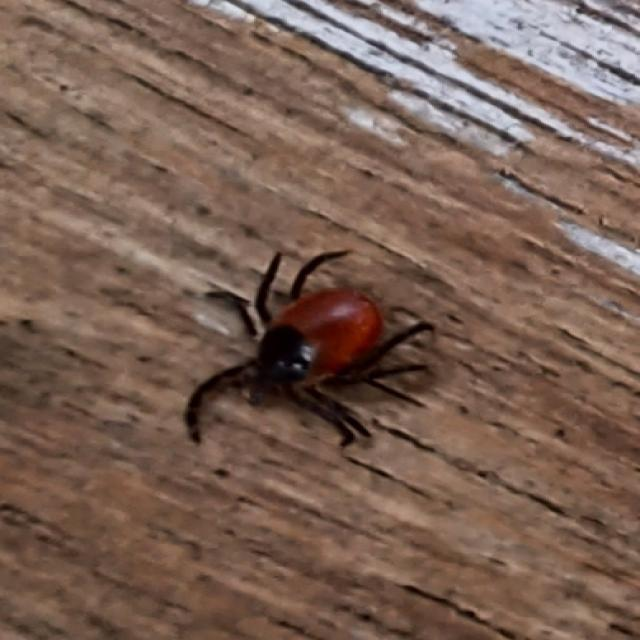Ixodes Ricinus-F: (183, 251, 434, 448)
